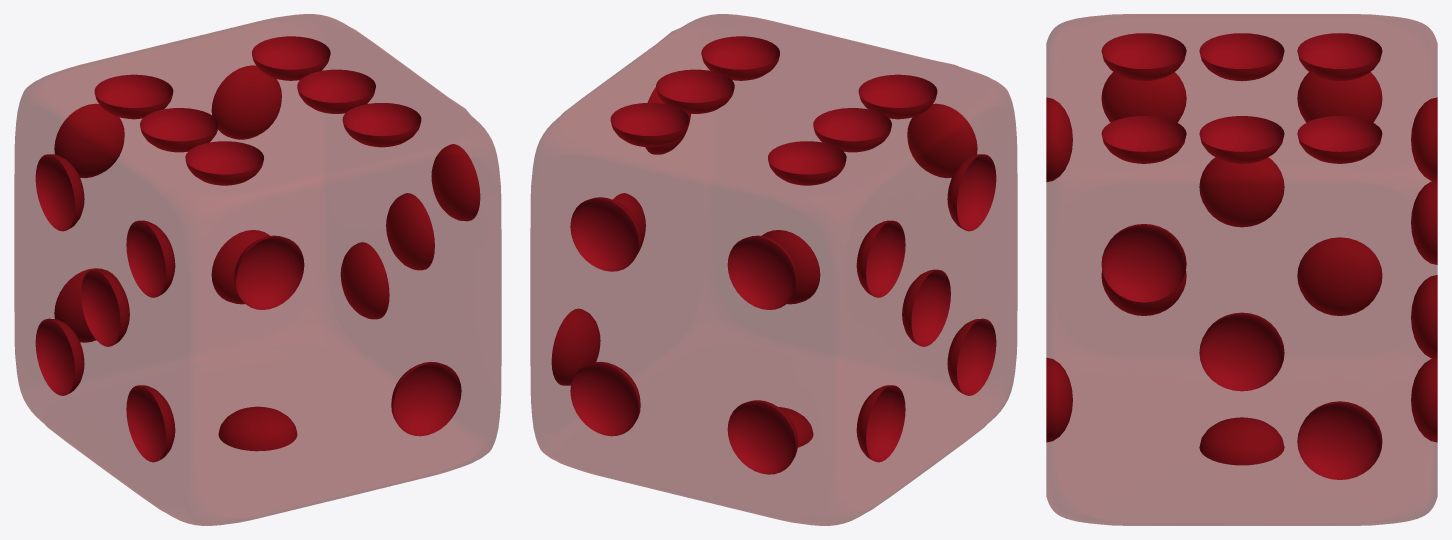
The model's file is dice.glb.
The picture shows the model from 3 angles, left to right: view 1: azimuth 30°, elevation 25°; view 2: azimuth 150°, elevation 25°; view 3: azimuth 270°, elevation 25°; orthographic projection. The views are drawn at different scales.
Parts seen in each view (by area): view 1: g (×2); view 2: g (×2); view 3: g (×2).
Boxes of the visible parts, x1,y1,x2,y2 form: g (×2): (14, 14, 501, 525); g (×2): (530, 14, 1017, 525); g (×2): (1046, 14, 1437, 525).
Size of the model in its own units: 2 by 2 by 2.
1 material, 1 textured.
